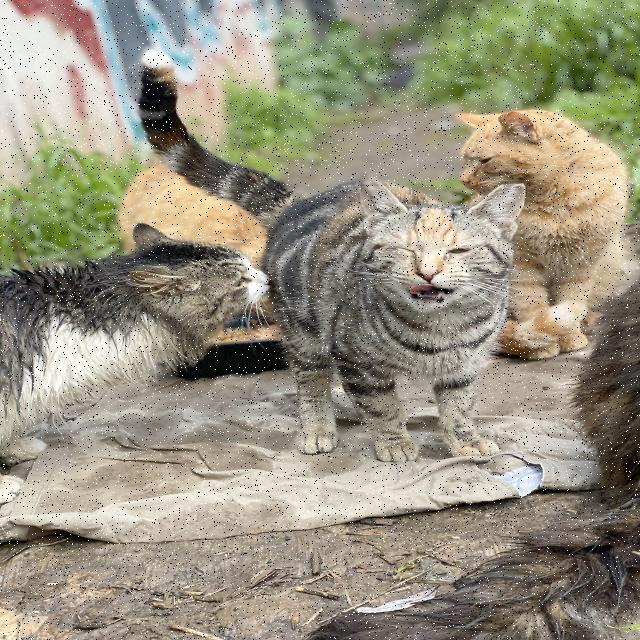cat: (140, 51, 525, 461), (0, 224, 268, 465), (457, 110, 628, 359)
